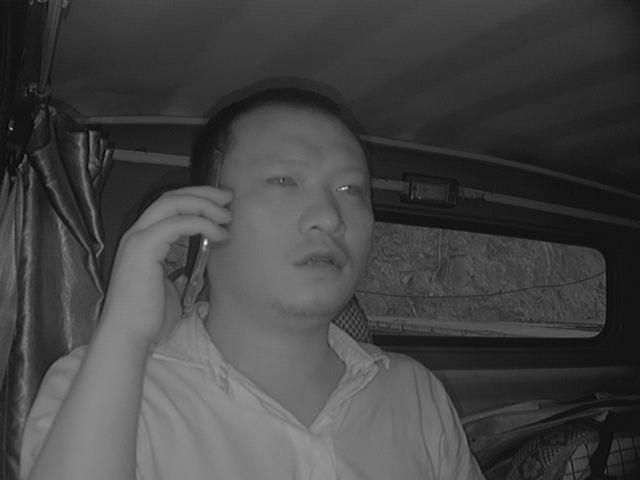hand: (98, 178, 231, 345)
